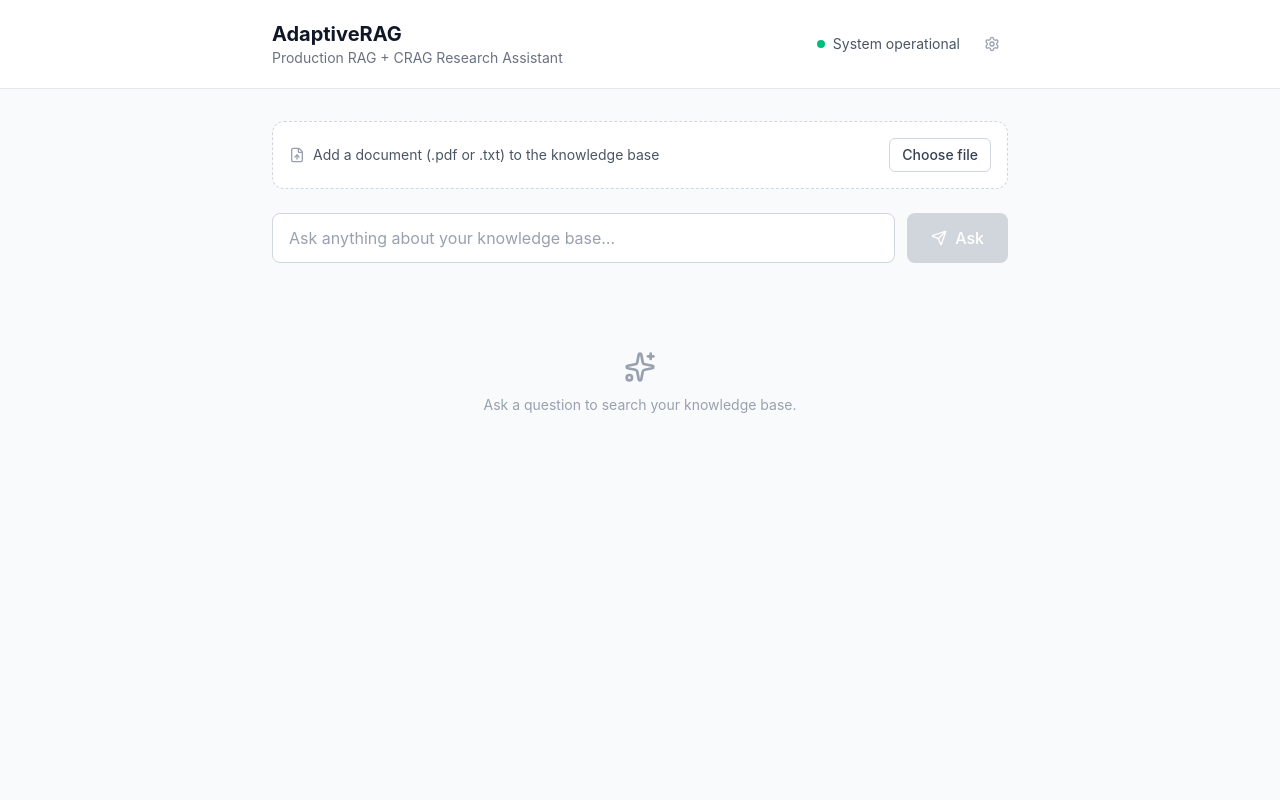
it: App › submits a query, shows loading, then renders the answer and sources
This screenshot has width=1280, height=800.
Type "What is Acme Corporation?" into the field named "query" at (584,238), box [272,213,895,263]
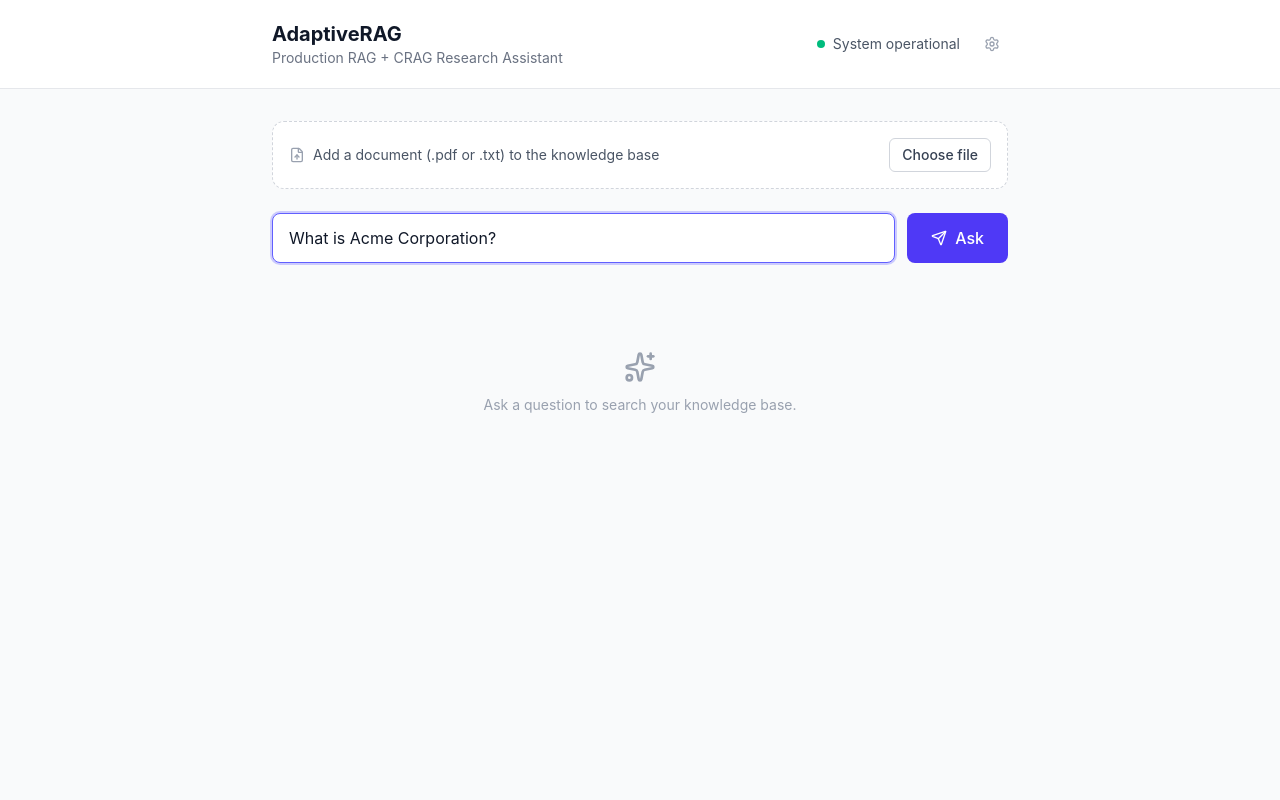
Click the button "Ask" at (958,238), box [907,213,1008,263]
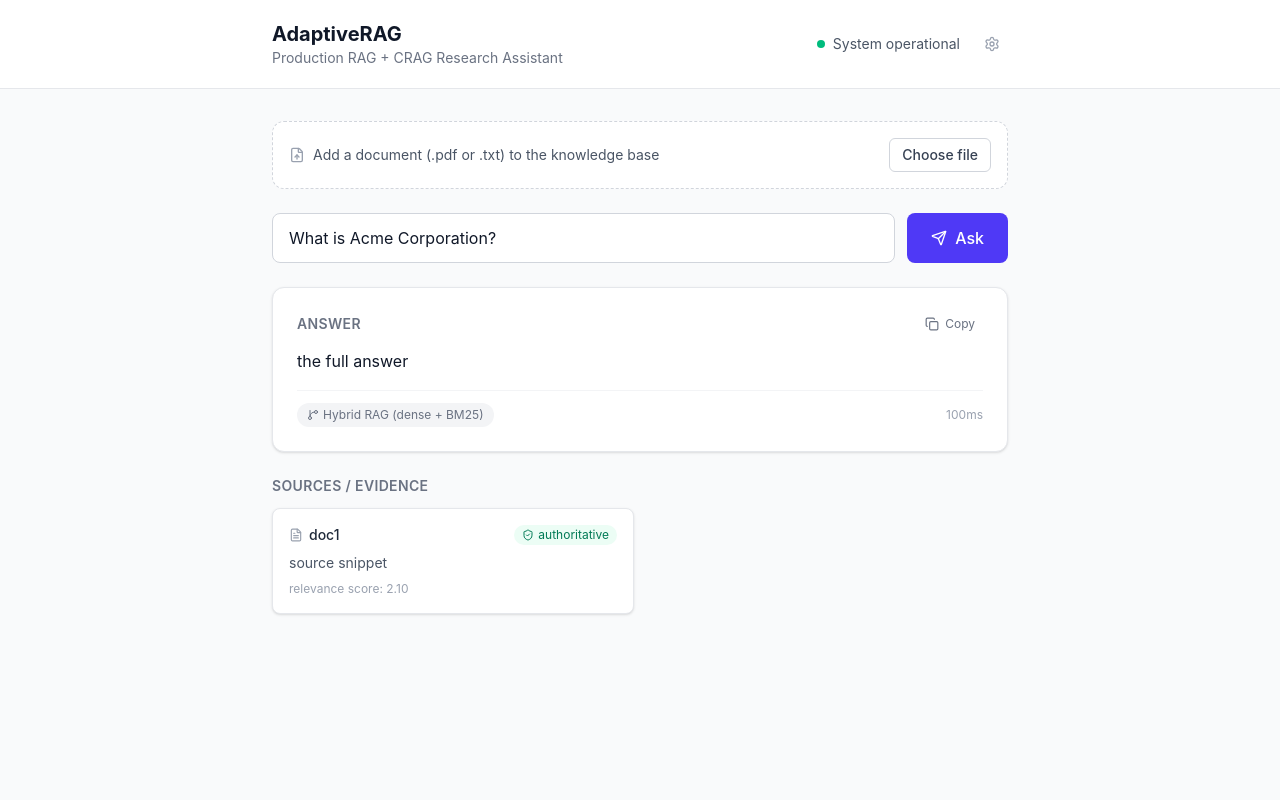
Check: the text "the full answer" is shown, box [297,351,408,371]
Check: the element with test id "source-card" shows "doc1", box [309,526,340,543]
Check: the text "source snippet" is shown, box [289,554,387,571]
